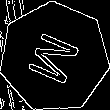M_SE: (23, 26, 86, 88)
